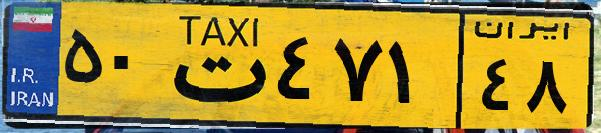0: (110, 28, 158, 98)
1: (385, 28, 445, 110)
4: (270, 28, 330, 110), (475, 38, 525, 113)
5: (57, 26, 110, 100)
7: (330, 28, 385, 110)
8: (525, 38, 570, 115)
ت: (158, 12, 270, 120)
